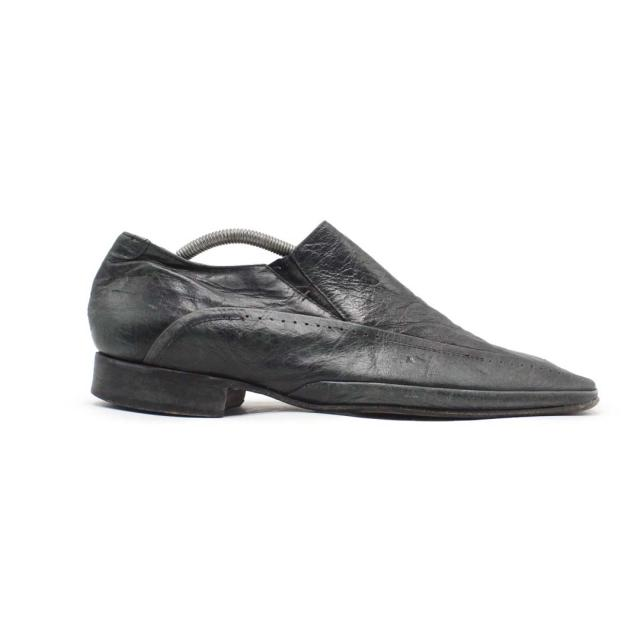heel: (86, 229, 189, 361)
midsole: (91, 348, 597, 420)
uppersole: (174, 220, 594, 396)
